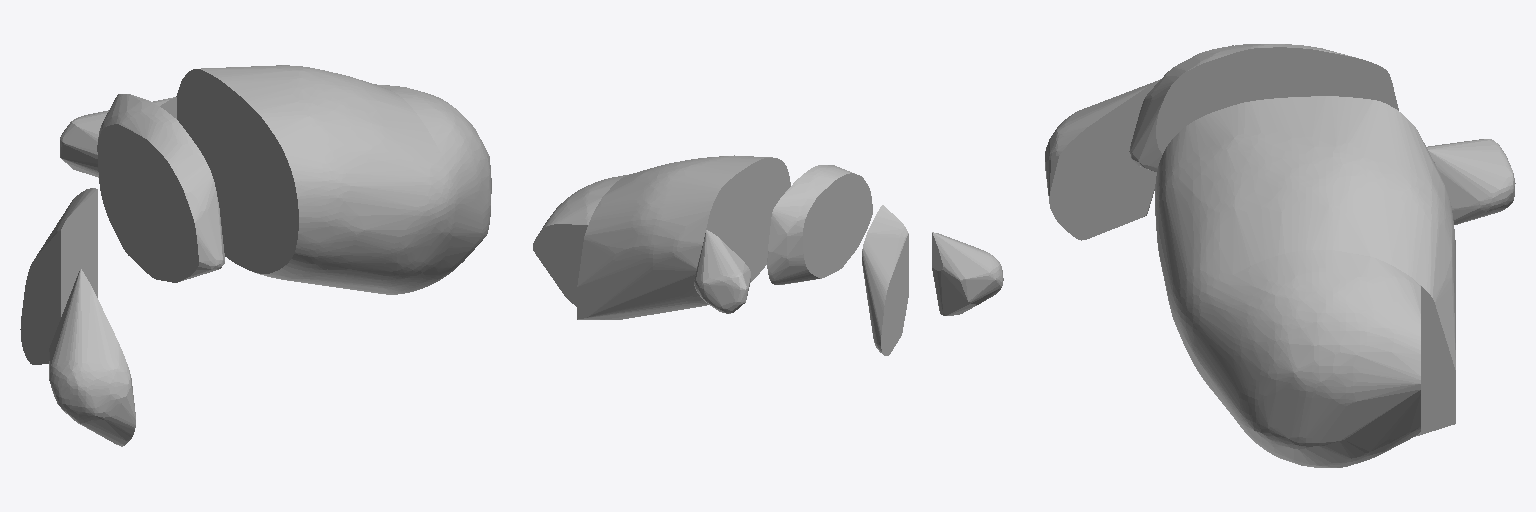
robot.urdf — root:
<robot name="root">
  <link name="link_coacd_convex_piece_0">
    <inertial>
      <origin xyz="0 0 0" rpy="0 0 0"/>
      <inertia ixx="1.14E-09" ixy="-1.46E-09" ixz="-6.60E-10" iyy="2.51E-09" iyz="-4.17E-10" izz="3.24E-09"/>
    </inertial>
    <visual>
      <origin xyz="0 0 0" rpy="0 0 0"/>
      <geometry>
        <mesh filename="coacd_convex_piece_0.obj" scale="1.0000E+00 1.0000E+00 1.0000E+00"/>
      </geometry>
      <material name="">
        <color rgba="7.50E-01 7.50E-01 7.50E-01 1"/>
      </material>
    </visual>
    <collision>
      <origin xyz="0 0 0" rpy="0 0 0"/>
      <geometry>
        <mesh filename="coacd_convex_piece_0.obj" scale="1.0000E+00 1.0000E+00 1.0000E+00"/>
      </geometry>
    </collision>
  </link>
  <link name="link_coacd_convex_piece_1">
    <inertial>
      <origin xyz="0 0 0" rpy="0 0 0"/>
      <inertia ixx="4.00E-10" ixy="-4.69E-10" ixz="1.48E-10" iyy="1.93E-09" iyz="2.80E-11" izz="2.03E-09"/>
    </inertial>
    <visual>
      <origin xyz="0 0 0" rpy="0 0 0"/>
      <geometry>
        <mesh filename="coacd_convex_piece_1.obj" scale="1.0000E+00 1.0000E+00 1.0000E+00"/>
      </geometry>
      <material name="">
        <color rgba="7.50E-01 7.50E-01 7.50E-01 1"/>
      </material>
    </visual>
    <collision>
      <origin xyz="0 0 0" rpy="0 0 0"/>
      <geometry>
        <mesh filename="coacd_convex_piece_1.obj" scale="1.0000E+00 1.0000E+00 1.0000E+00"/>
      </geometry>
    </collision>
  </link>
  <joint name="link_coacd_convex_piece_1_joint" type="fixed">
    <origin xyz="0 0 0" rpy="0 0 0"/>
    <parent link="link_coacd_convex_piece_0"/>
    <child link="link_coacd_convex_piece_1"/>
  </joint>
  <link name="link_coacd_convex_piece_2">
    <inertial>
      <origin xyz="0 0 0" rpy="0 0 0"/>
      <inertia ixx="1.06E-10" ixy="-3.82E-11" ixz="-3.45E-10" iyy="1.33E-09" iyz="-1.14E-11" izz="1.24E-09"/>
    </inertial>
    <visual>
      <origin xyz="0 0 0" rpy="0 0 0"/>
      <geometry>
        <mesh filename="coacd_convex_piece_2.obj" scale="1.0000E+00 1.0000E+00 1.0000E+00"/>
      </geometry>
      <material name="">
        <color rgba="7.50E-01 7.50E-01 7.50E-01 1"/>
      </material>
    </visual>
    <collision>
      <origin xyz="0 0 0" rpy="0 0 0"/>
      <geometry>
        <mesh filename="coacd_convex_piece_2.obj" scale="1.0000E+00 1.0000E+00 1.0000E+00"/>
      </geometry>
    </collision>
  </link>
  <joint name="link_coacd_convex_piece_2_joint" type="fixed">
    <origin xyz="0 0 0" rpy="0 0 0"/>
    <parent link="link_coacd_convex_piece_1"/>
    <child link="link_coacd_convex_piece_2"/>
  </joint>
  <link name="link_coacd_convex_piece_3">
    <inertial>
      <origin xyz="0 0 0" rpy="0 0 0"/>
      <inertia ixx="3.50E-10" ixy="-3.77E-10" ixz="1.39E-11" iyy="4.53E-10" iyz="1.61E-11" izz="7.56E-10"/>
    </inertial>
    <visual>
      <origin xyz="0 0 0" rpy="0 0 0"/>
      <geometry>
        <mesh filename="coacd_convex_piece_3.obj" scale="1.0000E+00 1.0000E+00 1.0000E+00"/>
      </geometry>
      <material name="">
        <color rgba="7.50E-01 7.50E-01 7.50E-01 1"/>
      </material>
    </visual>
    <collision>
      <origin xyz="0 0 0" rpy="0 0 0"/>
      <geometry>
        <mesh filename="coacd_convex_piece_3.obj" scale="1.0000E+00 1.0000E+00 1.0000E+00"/>
      </geometry>
    </collision>
  </link>
  <joint name="link_coacd_convex_piece_3_joint" type="fixed">
    <origin xyz="0 0 0" rpy="0 0 0"/>
    <parent link="link_coacd_convex_piece_2"/>
    <child link="link_coacd_convex_piece_3"/>
  </joint>
  <link name="link_coacd_convex_piece_4">
    <inertial>
      <origin xyz="0 0 0" rpy="0 0 0"/>
      <inertia ixx="4.30E-10" ixy="-6.12E-10" ixz="4.69E-11" iyy="8.92E-10" iyz="3.28E-11" izz="1.31E-09"/>
    </inertial>
    <visual>
      <origin xyz="0 0 0" rpy="0 0 0"/>
      <geometry>
        <mesh filename="coacd_convex_piece_4.obj" scale="1.0000E+00 1.0000E+00 1.0000E+00"/>
      </geometry>
      <material name="">
        <color rgba="7.50E-01 7.50E-01 7.50E-01 1"/>
      </material>
    </visual>
    <collision>
      <origin xyz="0 0 0" rpy="0 0 0"/>
      <geometry>
        <mesh filename="coacd_convex_piece_4.obj" scale="1.0000E+00 1.0000E+00 1.0000E+00"/>
      </geometry>
    </collision>
  </link>
  <joint name="link_coacd_convex_piece_4_joint" type="fixed">
    <origin xyz="0 0 0" rpy="0 0 0"/>
    <parent link="link_coacd_convex_piece_3"/>
    <child link="link_coacd_convex_piece_4"/>
  </joint>
  <link name="link_coacd_convex_piece_5">
    <inertial>
      <origin xyz="0 0 0" rpy="0 0 0"/>
      <inertia ixx="5.52E-10" ixy="1.24E-10" ixz="8.30E-11" iyy="2.21E-10" iyz="-2.63E-10" izz="3.83E-10"/>
    </inertial>
    <visual>
      <origin xyz="0 0 0" rpy="0 0 0"/>
      <geometry>
        <mesh filename="coacd_convex_piece_5.obj" scale="1.0000E+00 1.0000E+00 1.0000E+00"/>
      </geometry>
      <material name="">
        <color rgba="7.50E-01 7.50E-01 7.50E-01 1"/>
      </material>
    </visual>
    <collision>
      <origin xyz="0 0 0" rpy="0 0 0"/>
      <geometry>
        <mesh filename="coacd_convex_piece_5.obj" scale="1.0000E+00 1.0000E+00 1.0000E+00"/>
      </geometry>
    </collision>
  </link>
  <joint name="link_coacd_convex_piece_5_joint" type="fixed">
    <origin xyz="0 0 0" rpy="0 0 0"/>
    <parent link="link_coacd_convex_piece_4"/>
    <child link="link_coacd_convex_piece_5"/>
  </joint>
  <link name="link_coacd_convex_piece_6">
    <inertial>
      <origin xyz="0 0 0" rpy="0 0 0"/>
      <inertia ixx="6.08E-10" ixy="1.52E-10" ixz="-9.14E-12" iyy="2.15E-11" iyz="-8.28E-12" izz="6.18E-10"/>
    </inertial>
    <visual>
      <origin xyz="0 0 0" rpy="0 0 0"/>
      <geometry>
        <mesh filename="coacd_convex_piece_6.obj" scale="1.0000E+00 1.0000E+00 1.0000E+00"/>
      </geometry>
      <material name="">
        <color rgba="7.50E-01 7.50E-01 7.50E-01 1"/>
      </material>
    </visual>
    <collision>
      <origin xyz="0 0 0" rpy="0 0 0"/>
      <geometry>
        <mesh filename="coacd_convex_piece_6.obj" scale="1.0000E+00 1.0000E+00 1.0000E+00"/>
      </geometry>
    </collision>
  </link>
  <joint name="link_coacd_convex_piece_6_joint" type="fixed">
    <origin xyz="0 0 0" rpy="0 0 0"/>
    <parent link="link_coacd_convex_piece_5"/>
    <child link="link_coacd_convex_piece_6"/>
  </joint>
  <link name="link_coacd_convex_piece_7">
    <inertial>
      <origin xyz="0 0 0" rpy="0 0 0"/>
      <inertia ixx="1.51E-09" ixy="-1.66E-09" ixz="-5.80E-10" iyy="2.52E-09" iyz="-4.34E-10" izz="3.49E-09"/>
    </inertial>
    <visual>
      <origin xyz="0 0 0" rpy="0 0 0"/>
      <geometry>
        <mesh filename="coacd_convex_piece_7.obj" scale="1.0000E+00 1.0000E+00 1.0000E+00"/>
      </geometry>
      <material name="">
        <color rgba="7.50E-01 7.50E-01 7.50E-01 1"/>
      </material>
    </visual>
    <collision>
      <origin xyz="0 0 0" rpy="0 0 0"/>
      <geometry>
        <mesh filename="coacd_convex_piece_7.obj" scale="1.0000E+00 1.0000E+00 1.0000E+00"/>
      </geometry>
    </collision>
  </link>
  <joint name="link_coacd_convex_piece_7_joint" type="fixed">
    <origin xyz="0 0 0" rpy="0 0 0"/>
    <parent link="link_coacd_convex_piece_6"/>
    <child link="link_coacd_convex_piece_7"/>
  </joint>
  <link name="link_coacd_convex_piece_8">
    <inertial>
      <origin xyz="0 0 0" rpy="0 0 0"/>
      <inertia ixx="6.77E-10" ixy="-5.53E-10" ixz="2.89E-10" iyy="7.29E-10" iyz="2.75E-10" izz="1.11E-09"/>
    </inertial>
    <visual>
      <origin xyz="0 0 0" rpy="0 0 0"/>
      <geometry>
        <mesh filename="coacd_convex_piece_8.obj" scale="1.0000E+00 1.0000E+00 1.0000E+00"/>
      </geometry>
      <material name="">
        <color rgba="7.50E-01 7.50E-01 7.50E-01 1"/>
      </material>
    </visual>
    <collision>
      <origin xyz="0 0 0" rpy="0 0 0"/>
      <geometry>
        <mesh filename="coacd_convex_piece_8.obj" scale="1.0000E+00 1.0000E+00 1.0000E+00"/>
      </geometry>
    </collision>
  </link>
  <joint name="link_coacd_convex_piece_8_joint" type="fixed">
    <origin xyz="0 0 0" rpy="0 0 0"/>
    <parent link="link_coacd_convex_piece_7"/>
    <child link="link_coacd_convex_piece_8"/>
  </joint>
  <link name="link_coacd_convex_piece_9">
    <inertial>
      <origin xyz="0 0 0" rpy="0 0 0"/>
      <inertia ixx="1.75E-09" ixy="1.37E-10" ixz="1.94E-10" iyy="8.90E-10" iyz="-1.42E-10" izz="1.14E-09"/>
    </inertial>
    <visual>
      <origin xyz="0 0 0" rpy="0 0 0"/>
      <geometry>
        <mesh filename="coacd_convex_piece_9.obj" scale="1.0000E+00 1.0000E+00 1.0000E+00"/>
      </geometry>
      <material name="">
        <color rgba="7.50E-01 7.50E-01 7.50E-01 1"/>
      </material>
    </visual>
    <collision>
      <origin xyz="0 0 0" rpy="0 0 0"/>
      <geometry>
        <mesh filename="coacd_convex_piece_9.obj" scale="1.0000E+00 1.0000E+00 1.0000E+00"/>
      </geometry>
    </collision>
  </link>
  <joint name="link_coacd_convex_piece_9_joint" type="fixed">
    <origin xyz="0 0 0" rpy="0 0 0"/>
    <parent link="link_coacd_convex_piece_8"/>
    <child link="link_coacd_convex_piece_9"/>
  </joint>
  <link name="link_coacd_convex_piece_10">
    <inertial>
      <origin xyz="0 0 0" rpy="0 0 0"/>
      <inertia ixx="4.09E-10" ixy="-1.17E-10" ixz="1.89E-10" iyy="7.42E-10" iyz="2.85E-11" izz="8.22E-10"/>
    </inertial>
    <visual>
      <origin xyz="0 0 0" rpy="0 0 0"/>
      <geometry>
        <mesh filename="coacd_convex_piece_10.obj" scale="1.0000E+00 1.0000E+00 1.0000E+00"/>
      </geometry>
      <material name="">
        <color rgba="7.50E-01 7.50E-01 7.50E-01 1"/>
      </material>
    </visual>
    <collision>
      <origin xyz="0 0 0" rpy="0 0 0"/>
      <geometry>
        <mesh filename="coacd_convex_piece_10.obj" scale="1.0000E+00 1.0000E+00 1.0000E+00"/>
      </geometry>
    </collision>
  </link>
  <joint name="link_coacd_convex_piece_10_joint" type="fixed">
    <origin xyz="0 0 0" rpy="0 0 0"/>
    <parent link="link_coacd_convex_piece_9"/>
    <child link="link_coacd_convex_piece_10"/>
  </joint>
  <link name="link_coacd_convex_piece_11">
    <inertial>
      <origin xyz="0 0 0" rpy="0 0 0"/>
      <inertia ixx="4.94E-09" ixy="-1.46E-09" ixz="1.61E-09" iyy="1.02E-08" iyz="3.38E-10" izz="1.09E-08"/>
    </inertial>
    <visual>
      <origin xyz="0 0 0" rpy="0 0 0"/>
      <geometry>
        <mesh filename="coacd_convex_piece_11.obj" scale="1.0000E+00 1.0000E+00 1.0000E+00"/>
      </geometry>
      <material name="">
        <color rgba="7.50E-01 7.50E-01 7.50E-01 1"/>
      </material>
    </visual>
    <collision>
      <origin xyz="0 0 0" rpy="0 0 0"/>
      <geometry>
        <mesh filename="coacd_convex_piece_11.obj" scale="1.0000E+00 1.0000E+00 1.0000E+00"/>
      </geometry>
    </collision>
  </link>
  <joint name="link_coacd_convex_piece_11_joint" type="fixed">
    <origin xyz="0 0 0" rpy="0 0 0"/>
    <parent link="link_coacd_convex_piece_10"/>
    <child link="link_coacd_convex_piece_11"/>
  </joint>
  <link name="link_coacd_convex_piece_12">
    <inertial>
      <origin xyz="0 0 0" rpy="0 0 0"/>
      <inertia ixx="4.18E-10" ixy="-6.32E-10" ixz="2.37E-10" iyy="1.23E-09" iyz="1.34E-10" izz="1.51E-09"/>
    </inertial>
    <visual>
      <origin xyz="0 0 0" rpy="0 0 0"/>
      <geometry>
        <mesh filename="coacd_convex_piece_12.obj" scale="1.0000E+00 1.0000E+00 1.0000E+00"/>
      </geometry>
      <material name="">
        <color rgba="7.50E-01 7.50E-01 7.50E-01 1"/>
      </material>
    </visual>
    <collision>
      <origin xyz="0 0 0" rpy="0 0 0"/>
      <geometry>
        <mesh filename="coacd_convex_piece_12.obj" scale="1.0000E+00 1.0000E+00 1.0000E+00"/>
      </geometry>
    </collision>
  </link>
  <joint name="link_coacd_convex_piece_12_joint" type="fixed">
    <origin xyz="0 0 0" rpy="0 0 0"/>
    <parent link="link_coacd_convex_piece_11"/>
    <child link="link_coacd_convex_piece_12"/>
  </joint>
  <link name="link_coacd_convex_piece_13">
    <inertial>
      <origin xyz="0 0 0" rpy="0 0 0"/>
      <inertia ixx="2.12E-10" ixy="-4.50E-10" ixz="-8.58E-11" iyy="1.26E-09" iyz="-2.84E-11" izz="1.39E-09"/>
    </inertial>
    <visual>
      <origin xyz="0 0 0" rpy="0 0 0"/>
      <geometry>
        <mesh filename="coacd_convex_piece_13.obj" scale="1.0000E+00 1.0000E+00 1.0000E+00"/>
      </geometry>
      <material name="">
        <color rgba="7.50E-01 7.50E-01 7.50E-01 1"/>
      </material>
    </visual>
    <collision>
      <origin xyz="0 0 0" rpy="0 0 0"/>
      <geometry>
        <mesh filename="coacd_convex_piece_13.obj" scale="1.0000E+00 1.0000E+00 1.0000E+00"/>
      </geometry>
    </collision>
  </link>
  <joint name="link_coacd_convex_piece_13_joint" type="fixed">
    <origin xyz="0 0 0" rpy="0 0 0"/>
    <parent link="link_coacd_convex_piece_12"/>
    <child link="link_coacd_convex_piece_13"/>
  </joint>
  <link name="link_coacd_convex_piece_14">
    <inertial>
      <origin xyz="0 0 0" rpy="0 0 0"/>
      <inertia ixx="1.22E-09" ixy="-1.25E-09" ixz="1.89E-09" iyy="9.63E-09" iyz="2.61E-10" izz="9.40E-09"/>
    </inertial>
    <visual>
      <origin xyz="0 0 0" rpy="0 0 0"/>
      <geometry>
        <mesh filename="coacd_convex_piece_14.obj" scale="1.0000E+00 1.0000E+00 1.0000E+00"/>
      </geometry>
      <material name="">
        <color rgba="7.50E-01 7.50E-01 7.50E-01 1"/>
      </material>
    </visual>
    <collision>
      <origin xyz="0 0 0" rpy="0 0 0"/>
      <geometry>
        <mesh filename="coacd_convex_piece_14.obj" scale="1.0000E+00 1.0000E+00 1.0000E+00"/>
      </geometry>
    </collision>
  </link>
  <joint name="link_coacd_convex_piece_14_joint" type="fixed">
    <origin xyz="0 0 0" rpy="0 0 0"/>
    <parent link="link_coacd_convex_piece_13"/>
    <child link="link_coacd_convex_piece_14"/>
  </joint>
  <link name="link_coacd_convex_piece_15">
    <inertial>
      <origin xyz="0 0 0" rpy="0 0 0"/>
      <inertia ixx="1.06E-10" ixy="-9.49E-11" ixz="-2.25E-10" iyy="1.16E-09" iyz="-1.34E-11" izz="1.09E-09"/>
    </inertial>
    <visual>
      <origin xyz="0 0 0" rpy="0 0 0"/>
      <geometry>
        <mesh filename="coacd_convex_piece_15.obj" scale="1.0000E+00 1.0000E+00 1.0000E+00"/>
      </geometry>
      <material name="">
        <color rgba="7.50E-01 7.50E-01 7.50E-01 1"/>
      </material>
    </visual>
    <collision>
      <origin xyz="0 0 0" rpy="0 0 0"/>
      <geometry>
        <mesh filename="coacd_convex_piece_15.obj" scale="1.0000E+00 1.0000E+00 1.0000E+00"/>
      </geometry>
    </collision>
  </link>
  <joint name="link_coacd_convex_piece_15_joint" type="fixed">
    <origin xyz="0 0 0" rpy="0 0 0"/>
    <parent link="link_coacd_convex_piece_14"/>
    <child link="link_coacd_convex_piece_15"/>
  </joint>
  <link name="link_coacd_convex_piece_16">
    <inertial>
      <origin xyz="0 0 0" rpy="0 0 0"/>
      <inertia ixx="1.44E-10" ixy="-6.29E-11" ixz="-3.68E-10" iyy="1.33E-09" iyz="-1.66E-11" izz="1.21E-09"/>
    </inertial>
    <visual>
      <origin xyz="0 0 0" rpy="0 0 0"/>
      <geometry>
        <mesh filename="coacd_convex_piece_16.obj" scale="1.0000E+00 1.0000E+00 1.0000E+00"/>
      </geometry>
      <material name="">
        <color rgba="7.50E-01 7.50E-01 7.50E-01 1"/>
      </material>
    </visual>
    <collision>
      <origin xyz="0 0 0" rpy="0 0 0"/>
      <geometry>
        <mesh filename="coacd_convex_piece_16.obj" scale="1.0000E+00 1.0000E+00 1.0000E+00"/>
      </geometry>
    </collision>
  </link>
  <joint name="link_coacd_convex_piece_16_joint" type="fixed">
    <origin xyz="0 0 0" rpy="0 0 0"/>
    <parent link="link_coacd_convex_piece_15"/>
    <child link="link_coacd_convex_piece_16"/>
  </joint>
</robot>

--- What the picture shows (computed from the rendered views, not written in the file) ---
The picture shows the robot from 3 angles, left to right: view 1: azimuth 30°, elevation 25°; view 2: azimuth 150°, elevation 25°; view 3: azimuth 270°, elevation 25°; orthographic projection.
Model root with 17 links and 16 joints (16 fixed), rooted at link_coacd_convex_piece_0, posed every joint at zero.
Links seen in each view (by area): view 1: link_coacd_convex_piece_11, link_coacd_convex_piece_10, link_coacd_convex_piece_0, link_coacd_convex_piece_15, link_coacd_convex_piece_14, link_coacd_convex_piece_6; view 2: link_coacd_convex_piece_11, link_coacd_convex_piece_10, link_coacd_convex_piece_15, link_coacd_convex_piece_14, link_coacd_convex_piece_0, link_coacd_convex_piece_6; view 3: link_coacd_convex_piece_11, link_coacd_convex_piece_14, link_coacd_convex_piece_10, link_coacd_convex_piece_0, link_coacd_convex_piece_6.
Link boxes in pixels (x1,y1,x2,y2): link_coacd_convex_piece_11: (176,65,454,294); link_coacd_convex_piece_10: (97,94,224,282); link_coacd_convex_piece_0: (49,269,135,446); link_coacd_convex_piece_15: (20,188,97,364); link_coacd_convex_piece_14: (375,84,491,286); link_coacd_convex_piece_6: (60,97,176,177); link_coacd_convex_piece_11: (577,155,790,319); link_coacd_convex_piece_10: (767,165,872,284); link_coacd_convex_piece_15: (862,205,908,355); link_coacd_convex_piece_14: (533,174,629,306); link_coacd_convex_piece_0: (932,232,1003,315); link_coacd_convex_piece_6: (694,230,750,313); link_coacd_convex_piece_11: (1155,96,1455,436); link_coacd_convex_piece_14: (1193,250,1420,467); link_coacd_convex_piece_10: (1129,44,1398,171); link_coacd_convex_piece_0: (1045,79,1160,240); link_coacd_convex_piece_6: (1427,139,1515,224).
Bounding box of the posed robot: 0.093 × 0.0641 × 0.0415 m (x, y, z).
6 mesh visuals loaded from 17 distinct referenced files (6 OBJ); not drawn: 11 (reference not matched to a file when rendering).